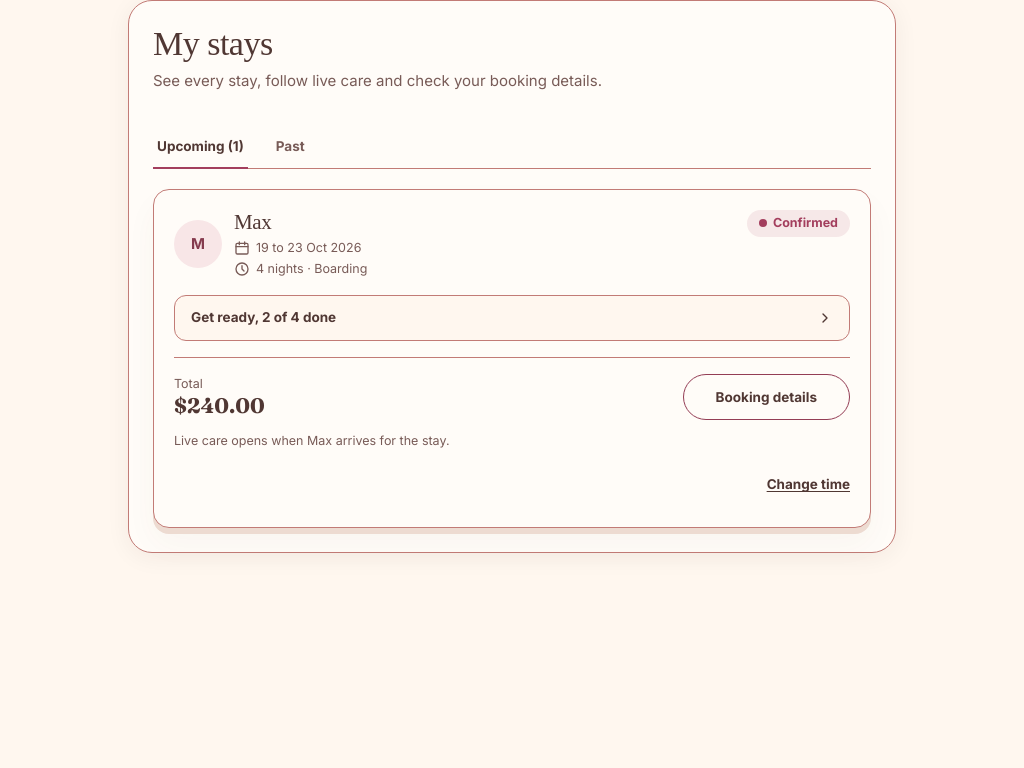
Test case: Get ready on My stays › lists the tasks in the booking details, with what happens at check-in
The image size is (1024, 768).
Click the button "Booking details" at (766, 397), box [683, 374, 850, 420]
(page scrolled)
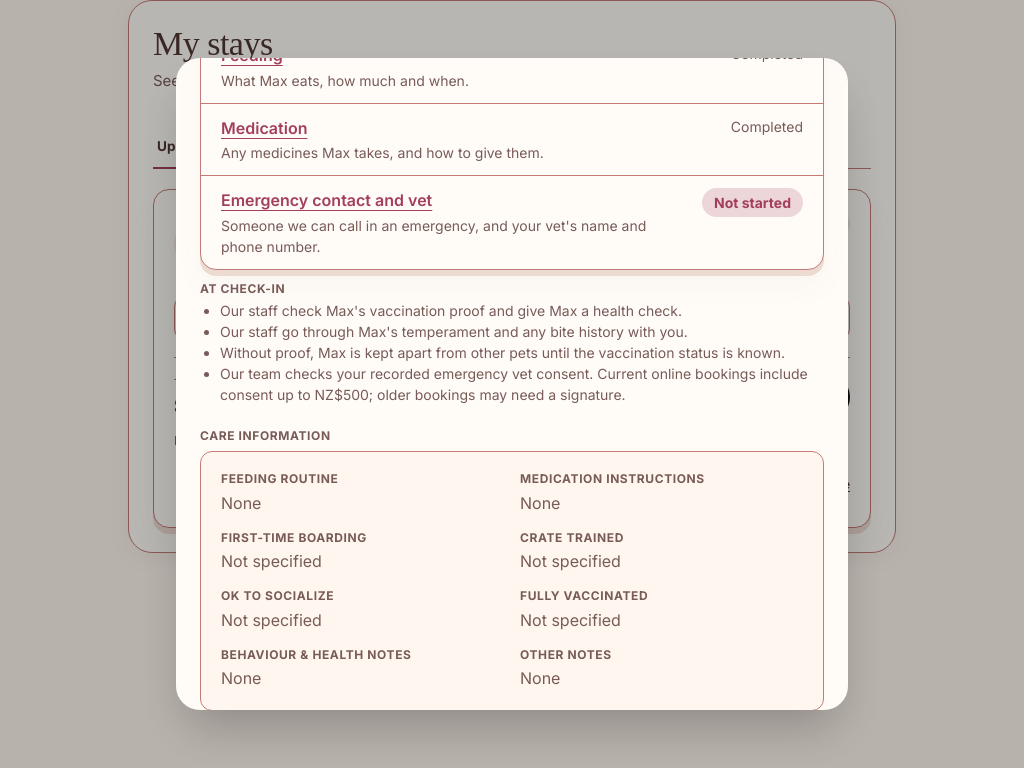
Now the list item "Our staff check Max's vaccination proof and give Max a health check." is shown, box [220, 302, 682, 319]
Now the list item "Our team checks your recorded emergency vet consent. Current online bookings include consent up to NZ$500; older booking" is shown, box [220, 365, 808, 403]
